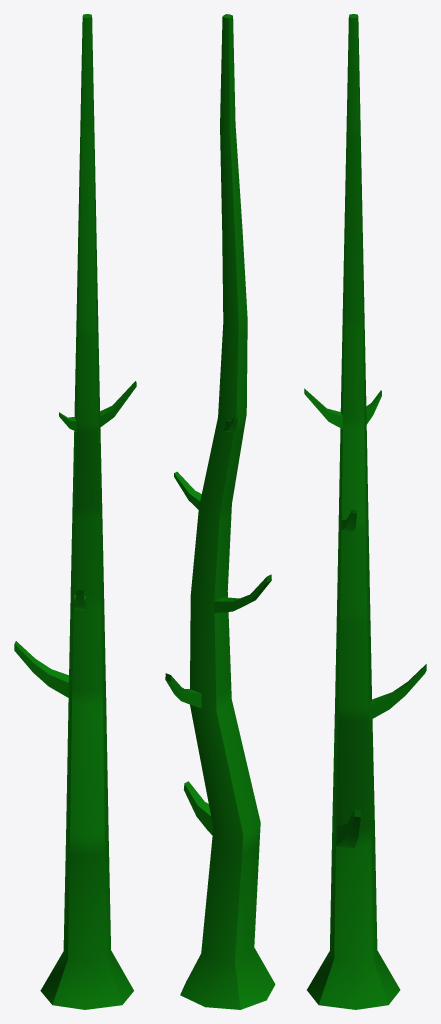
The model's file is bark_stem.fbx.
The picture shows the model from 3 angles, left to right: view 1: azimuth 90°, elevation 25°; view 2: azimuth 150°, elevation 25°; view 3: azimuth 270°, elevation 25°; orthographic projection.
Parts seen in each view (by area): view 1: pCube1; view 2: pCube1; view 3: pCube1.
Part boxes in pixels (x1=…): pCube1: x1=14, y1=14, x2=136, y2=1009; pCube1: x1=165, y1=14, x2=275, y2=1009; pCube1: x1=304, y1=14, x2=426, y2=1009.
Size of the model in its own units: 2.33 by 22.1 by 2.51.
